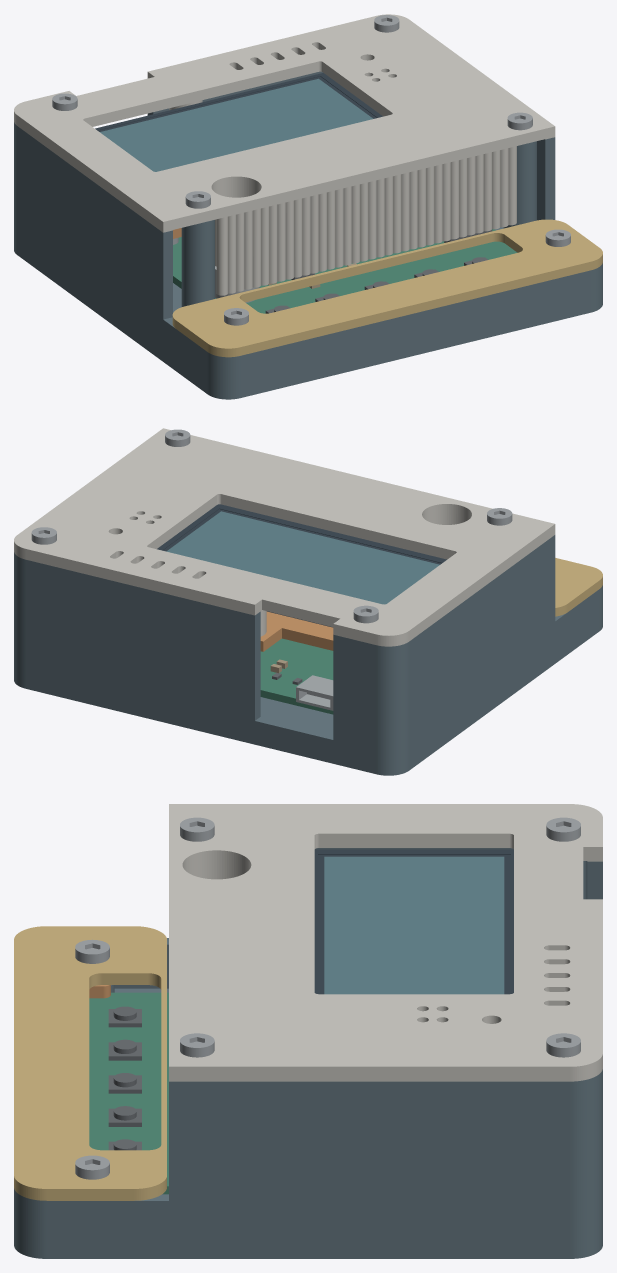
Rendered from V4_complete_assembly.glb.
3 renders of one model, top to bottom at view 1: azimuth 30°, elevation 25°; view 2: azimuth 150°, elevation 25°; view 3: azimuth 270°, elevation 25°, orthographic. The views are drawn at different scales.
Parts seen in each view (by area): view 1: main_lid, base, button_deck, REFERENCE_OLED_active_area, REFERENCE_PCB_70x70x1_6, OLED_official_159; view 2: base, main_lid, REFERENCE_OLED_active_area, REFERENCE_PCB_70x70x1_6, OLED_official_159, button_deck, oled_tray, REFERENCE_J1; view 3: base, main_lid, button_deck, REFERENCE_OLED_active_area, REFERENCE_PCB_70x70x1_6, OLED_official_159, REFERENCE_Lid_M3x8_1, REFERENCE_Lid_M3x8_3, REFERENCE_Lid_M3x8_0, REFERENCE_Lid_M3x8_2, REFERENCE_PCB_M3_1, REFERENCE_PCB_M3_0 (+4 smaller).
Boxes of the visible parts, left/top/right/bottom form: main_lid: left=14, top=14, right=555, bottom=295; base: left=14, top=71, right=602, bottom=399; button_deck: left=172, top=219, right=602, bottom=357; REFERENCE_OLED_active_area: left=100, top=78, right=373, bottom=171; REFERENCE_PCB_70x70x1_6: left=173, top=229, right=517, bottom=313; OLED_official_159: left=95, top=73, right=382, bottom=131; base: left=14, top=535, right=602, bottom=775; main_lid: left=14, top=428, right=555, bottom=646; REFERENCE_OLED_active_area: left=166, top=511, right=439, bottom=604; REFERENCE_PCB_70x70x1_6: left=260, top=638, right=333, bottom=714; OLED_official_159: left=157, top=504, right=446, bottom=564; button_deck: left=555, top=558, right=602, bottom=616; oled_tray: left=260, top=611, right=333, bottom=651; REFERENCE_J1: left=296, top=675, right=333, bottom=710; base: left=14, top=848, right=602, bottom=1258; main_lid: left=169, top=804, right=602, bottom=1081; button_deck: left=14, top=926, right=166, bottom=1200; REFERENCE_OLED_active_area: left=324, top=856, right=504, bottom=994; REFERENCE_PCB_70x70x1_6: left=89, top=992, right=168, bottom=1194; OLED_official_159: left=314, top=849, right=513, bottom=994; REFERENCE_Lid_M3x8_1: left=180, top=1033, right=214, bottom=1057; REFERENCE_Lid_M3x8_3: left=546, top=1033, right=580, bottom=1057; REFERENCE_Lid_M3x8_0: left=180, top=817, right=214, bottom=841; REFERENCE_Lid_M3x8_2: left=546, top=817, right=580, bottom=841; REFERENCE_PCB_M3_1: left=75, top=1155, right=109, bottom=1179; REFERENCE_PCB_M3_0: left=75, top=939, right=109, bottom=963.
Size of the model in its own units: 0.095 by 0.034 by 0.09.
